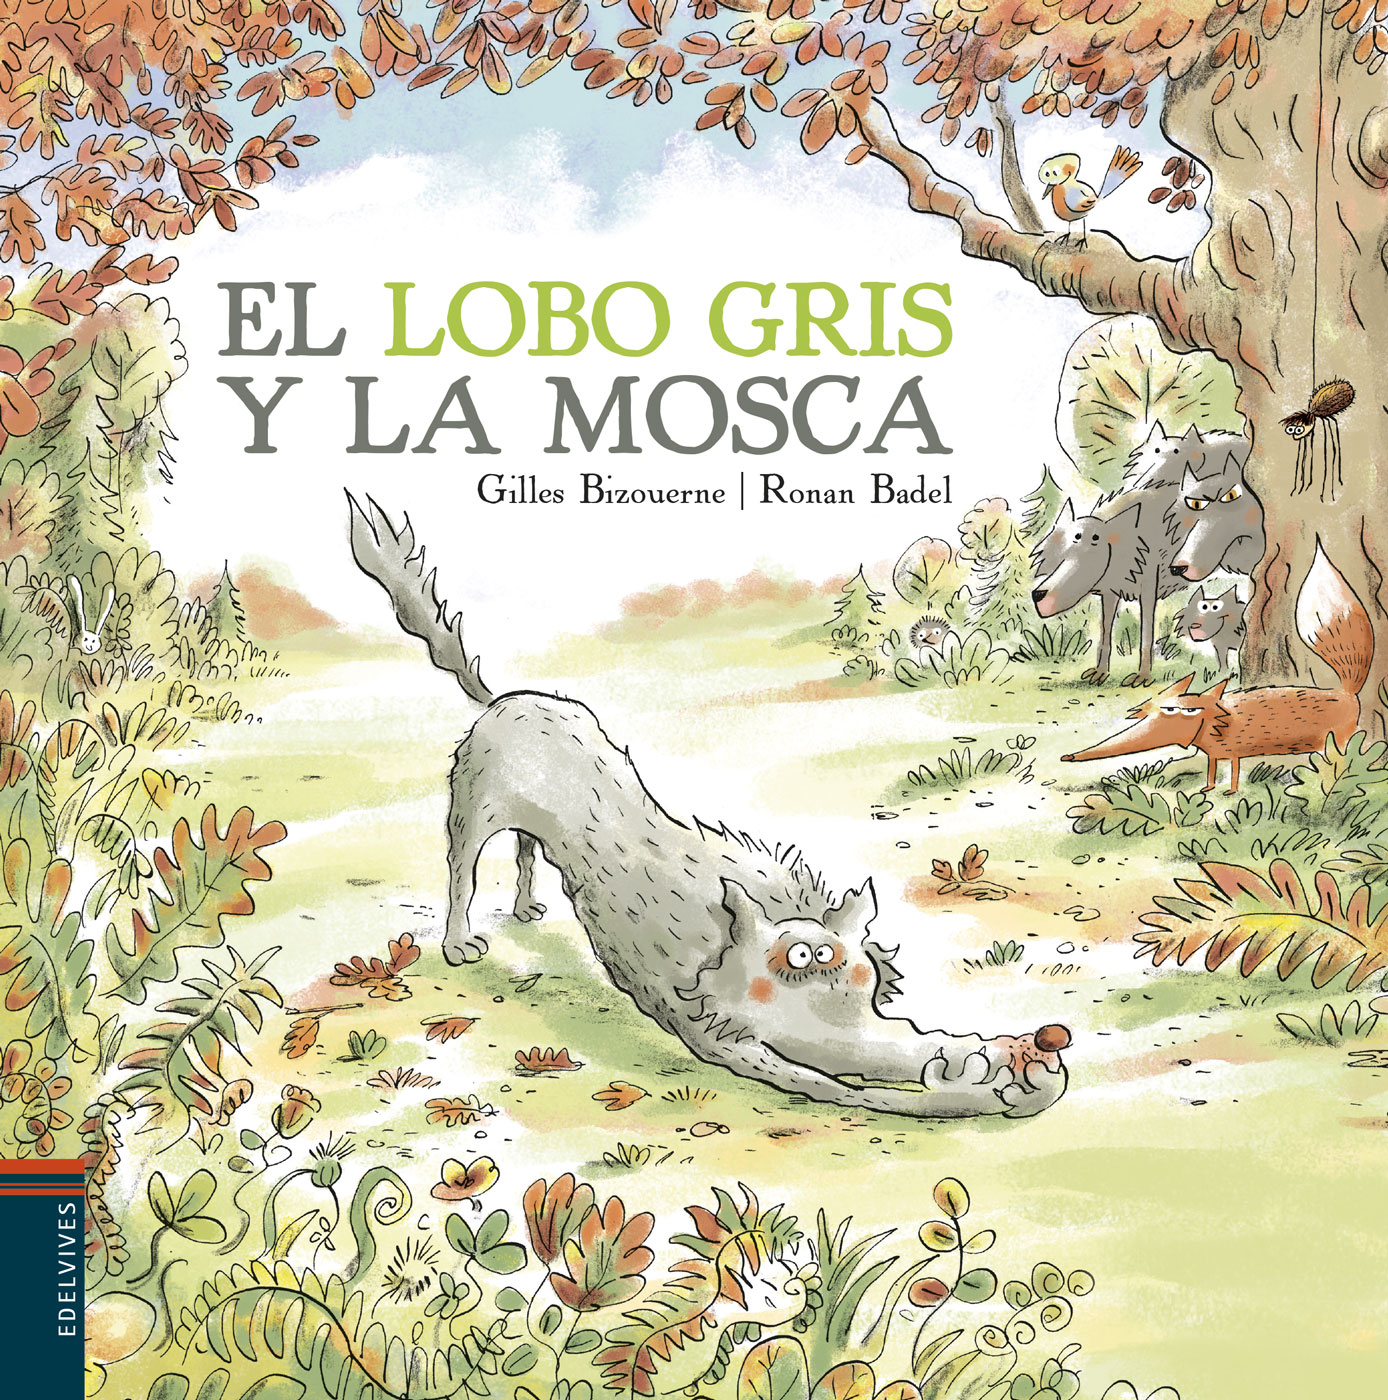Lobo: (338, 498, 1077, 1251), (1032, 479, 1166, 671), (1160, 451, 1291, 587), (1168, 591, 1253, 664)
